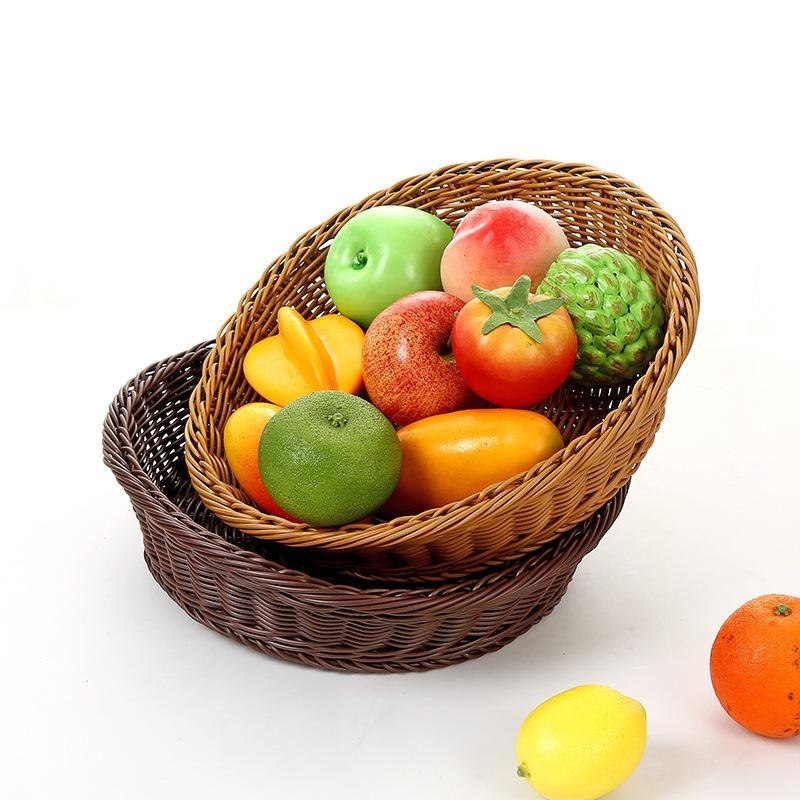apple: (360, 291, 471, 431)
